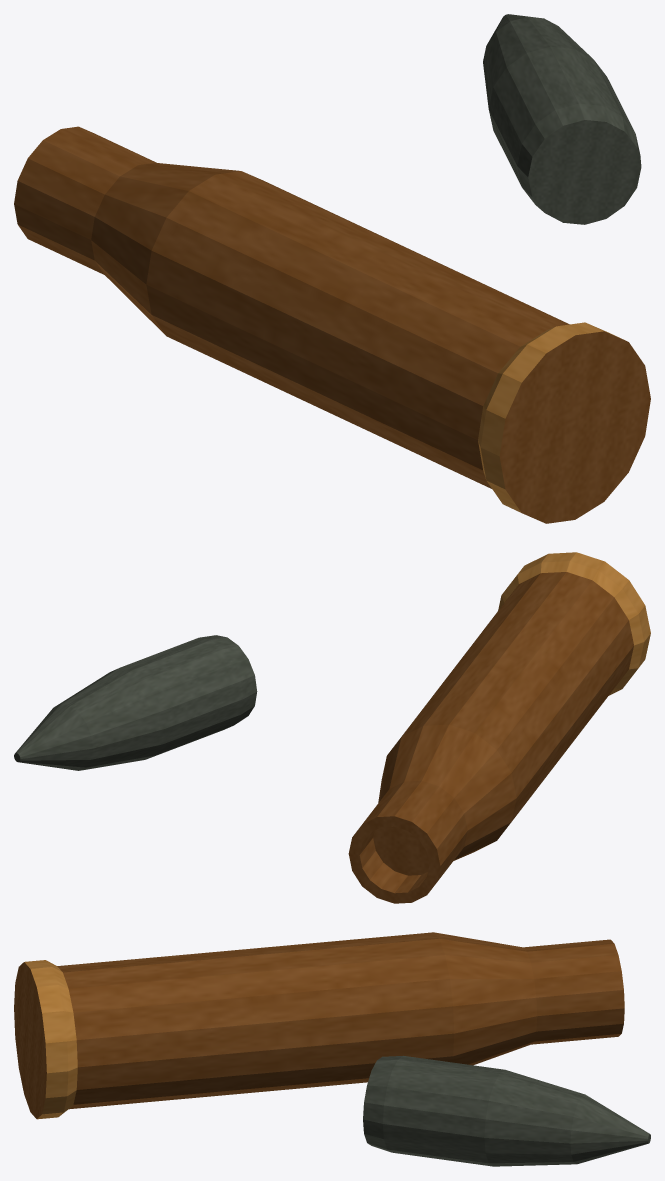
File: AuxAmmoRifleBody.fbx
3 renders of one model, top to bottom at view 1: azimuth 30°, elevation 25°; view 2: azimuth 150°, elevation 25°; view 3: azimuth 270°, elevation 25°, orthographic. The views are drawn at different scales.
Parts seen in each view (by area): view 1: AuxAmmoRifleBody_export; view 2: AuxAmmoRifleBody_export; view 3: AuxAmmoRifleBody_export.
Boxes of the visible parts, x1,y1,x2,y2 form: AuxAmmoRifleBody_export: (14, 14, 650, 523); AuxAmmoRifleBody_export: (14, 552, 650, 903); AuxAmmoRifleBody_export: (14, 932, 650, 1166).
Bounding box in the file's own units: 4.34 × 5.76 × 1.43.
